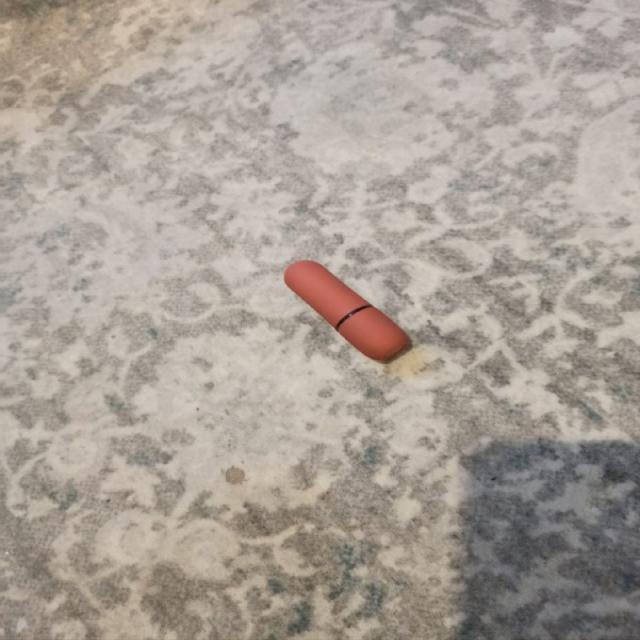lipstick: (282, 258, 411, 362)
